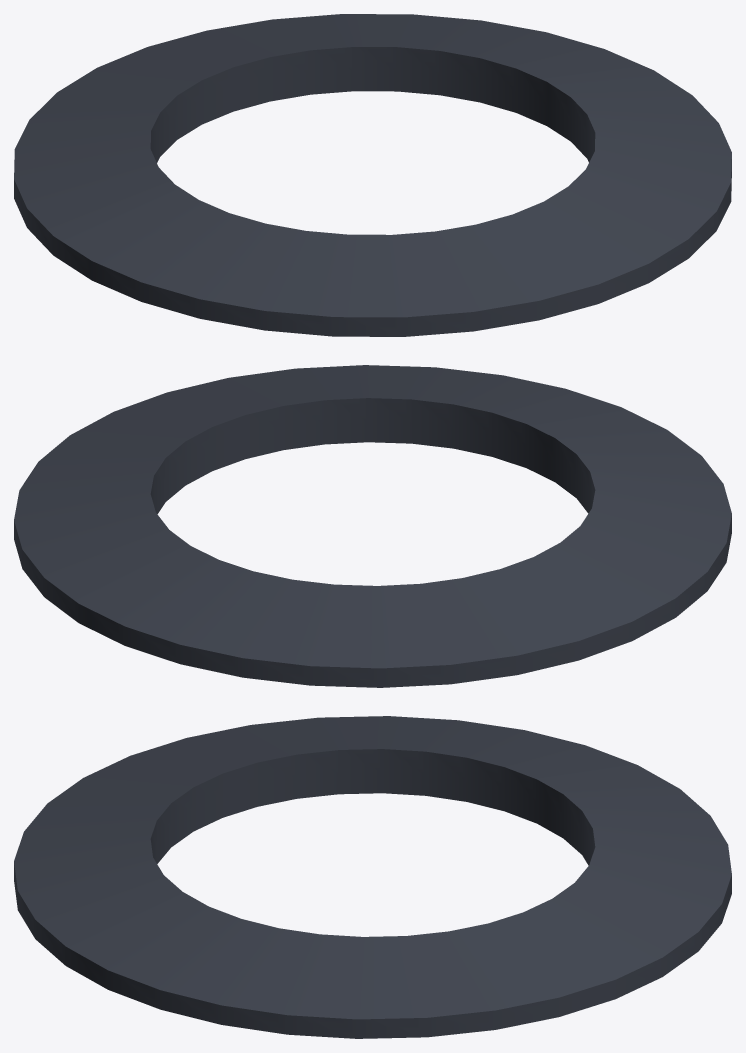
Rendered from Trap_Corner.fbx.
3 views of the same model, one above another, from view 1: azimuth 30°, elevation 25°; view 2: azimuth 150°, elevation 25°; view 3: azimuth 270°, elevation 25° (orthographic).
Visible parts, largest first — view 1: Circle; view 2: Circle; view 3: Circle.
Boxes of the visible parts, bbox=[...] form: Circle: bbox=[14, 14, 731, 336]; Circle: bbox=[14, 365, 731, 687]; Circle: bbox=[14, 716, 731, 1038].
Bounding box in the file's own units: 656 × 44.61 × 656.
1 material, 1 textured.
